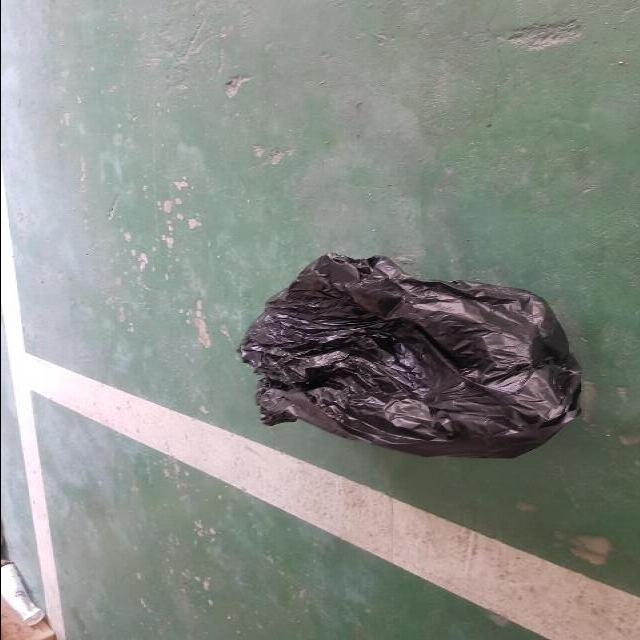plastic bag: (233, 247, 585, 463)
